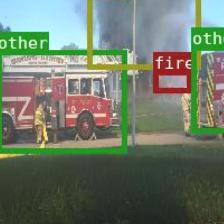fire: (152, 69, 191, 92)
smoke: (87, 0, 200, 68)
